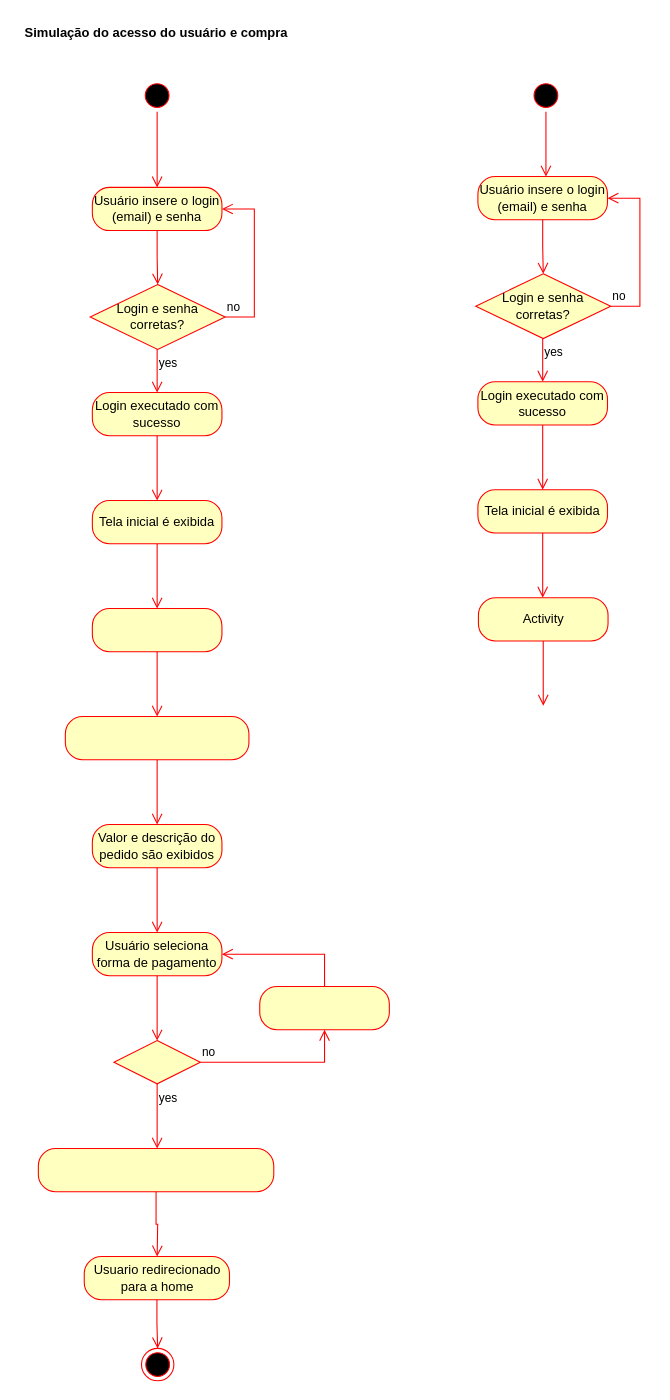
Some shapes in this 670 by 1400 pixel diagram are drawn without their labels. Here are the shapes that lost their labels. From the top down, the centre of each, then its label:
the point at 156,630: Usuário abre a tela de fazer pedido
the point at 156,738: Usuário monta o pedido, com diferentes produto e variações
the point at 324,1008: Exibição do erro de pagamento
the point at 156,1062: Condition
the point at 155,1170: Exibe que o pagamento foi feito com sucesso e dados sobre pagamento e pedido
